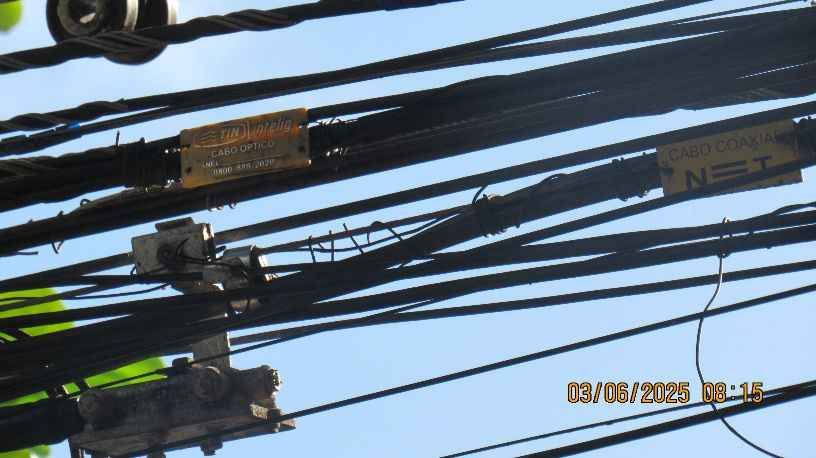coaxial: (545, 105, 815, 284)
fibra_optica: (1, 103, 334, 181)
